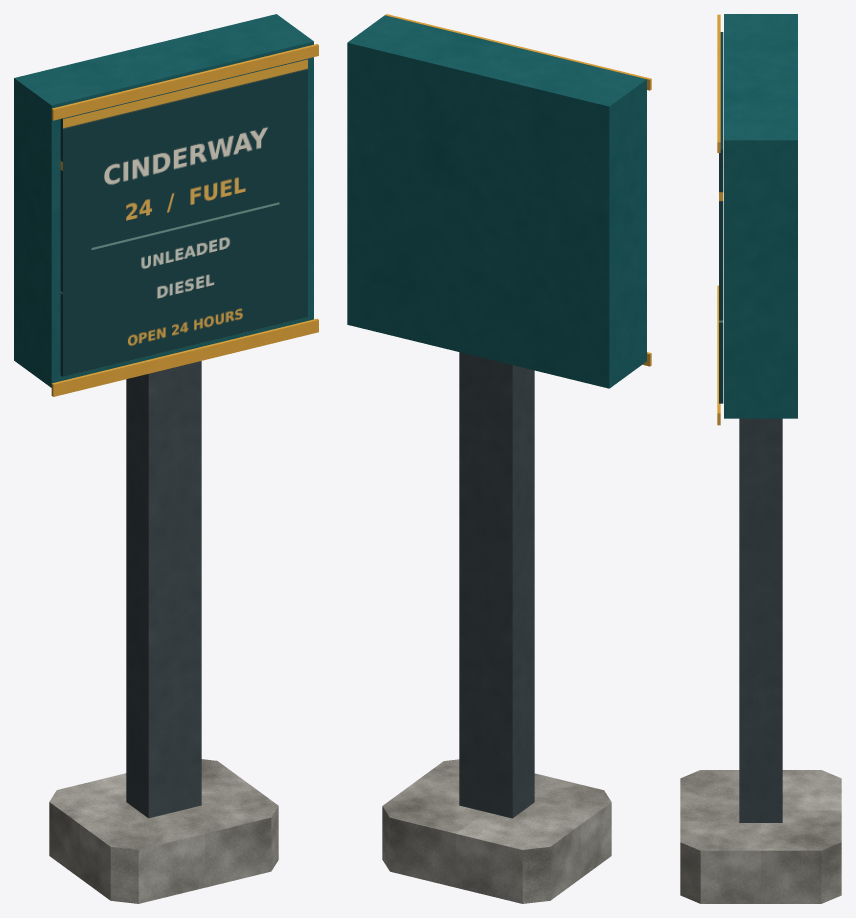
Rendered from CW24_09_Pylon_Sign.glb.
3 views of the same model, side by side, from view 1: azimuth 30°, elevation 25°; view 2: azimuth 150°, elevation 25°; view 3: azimuth 270°, elevation 25° (orthographic).
Visible parts, largest first — view 1: Pylon_Sign__Sign_Front_Graphic, Pylon_Sign__Sign_Steel_Column, Pylon_Sign__Sign_Doubleface_Cabinet, Pylon_Sign__Sign_Base_Concrete, Pylon_Sign__Sign_Retro_Outline; view 2: Pylon_Sign__Sign_Doubleface_Cabinet, Pylon_Sign__Sign_Steel_Column, Pylon_Sign__Sign_Base_Concrete, Pylon_Sign__Sign_Retro_Outline; view 3: Pylon_Sign__Sign_Doubleface_Cabinet, Pylon_Sign__Sign_Base_Concrete, Pylon_Sign__Sign_Steel_Column, Pylon_Sign__Sign_Front_Graphic, Pylon_Sign__Sign_Retro_Outline.
Boxes of the visible parts, x1,y1,x2,y2 form: Pylon_Sign__Sign_Front_Graphic: (60,59,307,376); Pylon_Sign__Sign_Steel_Column: (126,361,201,818); Pylon_Sign__Sign_Doubleface_Cabinet: (14,14,313,387); Pylon_Sign__Sign_Base_Concrete: (49,759,278,903); Pylon_Sign__Sign_Retro_Outline: (51,44,318,396); Pylon_Sign__Sign_Doubleface_Cabinet: (347,15,646,388); Pylon_Sign__Sign_Steel_Column: (459,352,534,818); Pylon_Sign__Sign_Base_Concrete: (382,759,611,903); Pylon_Sign__Sign_Retro_Outline: (385,14,651,366); Pylon_Sign__Sign_Doubleface_Cabinet: (724,14,797,418); Pylon_Sign__Sign_Base_Concrete: (680,770,841,903); Pylon_Sign__Sign_Steel_Column: (739,418,782,822); Pylon_Sign__Sign_Front_Graphic: (719,32,723,403); Pylon_Sign__Sign_Retro_Outline: (717,14,720,425).
Bounding box in the file's own units: 1.8 × 5.17 × 0.96.
5 materials, 5 textured.
